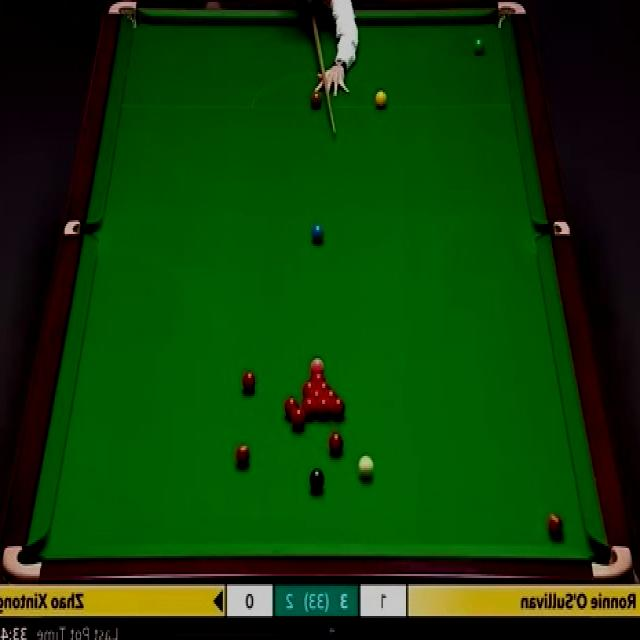black-ball: (308, 468, 324, 494)
blue-ball: (311, 224, 324, 243)
brown-ball: (310, 91, 323, 110)
green-ball: (473, 38, 485, 56)
pink-ball: (311, 356, 325, 368)
red-ball: (327, 432, 345, 457), (547, 515, 564, 540), (236, 442, 252, 467), (301, 397, 316, 420), (242, 371, 256, 395), (331, 396, 346, 418), (292, 408, 306, 431), (284, 396, 298, 419), (317, 396, 331, 418), (302, 380, 315, 396), (310, 370, 328, 380), (316, 380, 332, 390), (308, 389, 324, 397), (324, 389, 338, 398)
white-ball: (358, 453, 374, 482)
yellow-ball: (376, 91, 388, 109)
